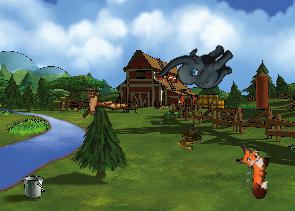eagle: (72, 76, 130, 131)
elephant: (153, 23, 241, 112)
fox: (232, 144, 272, 199)
